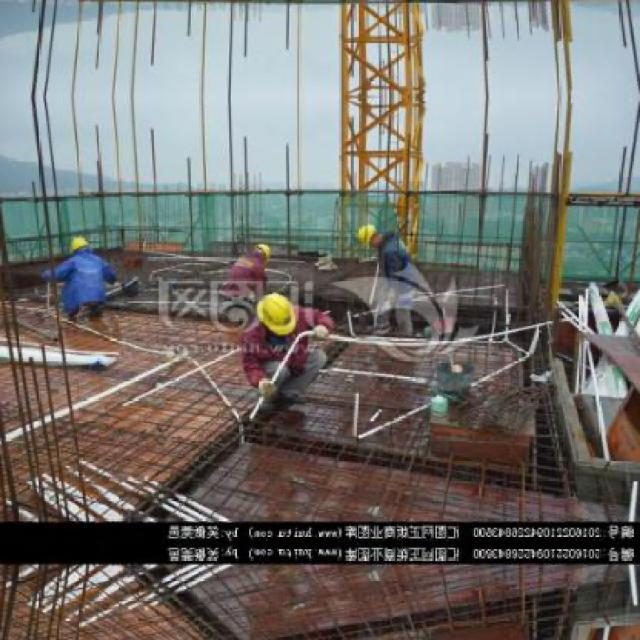con casco: (246, 285, 313, 361), (351, 201, 407, 251), (60, 227, 114, 269)
